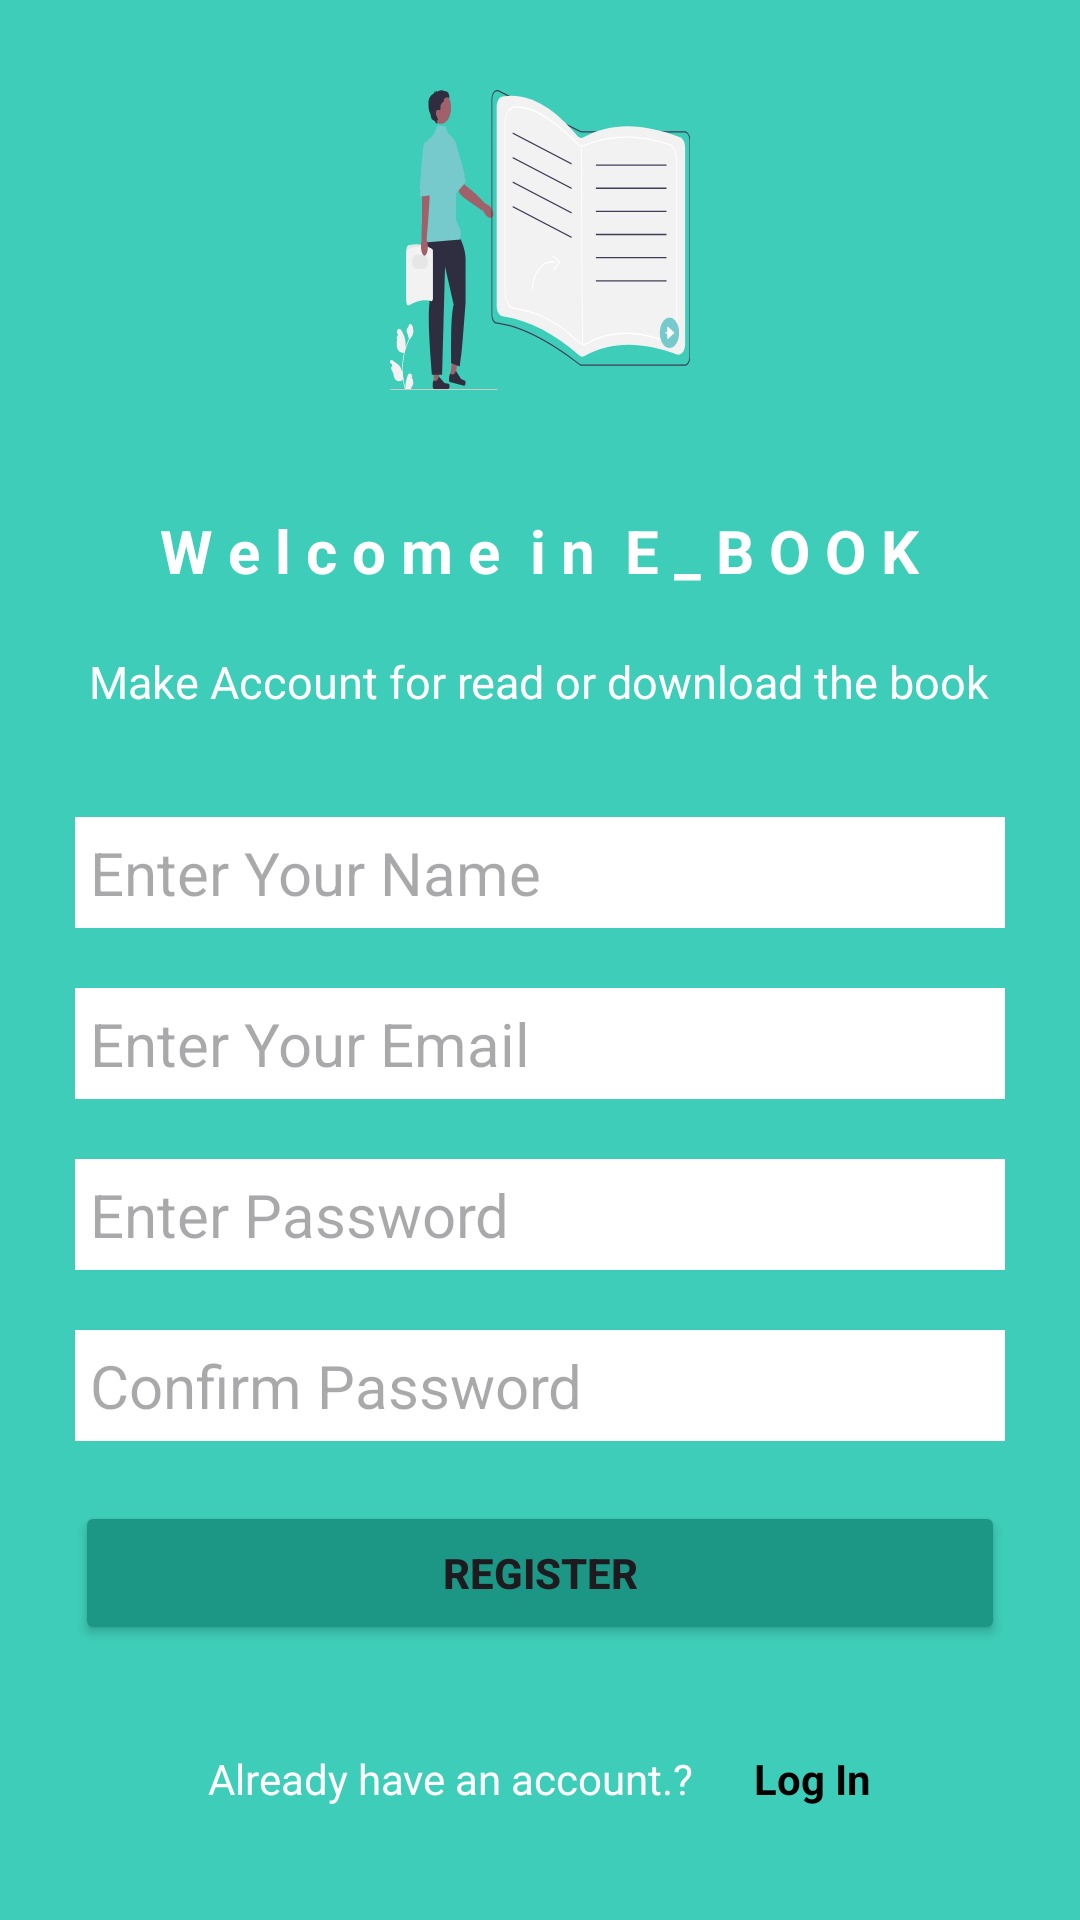

Named icons in this screenshot (1080 × 1920) and their centers, [x,y]:
books re: [540,240]
